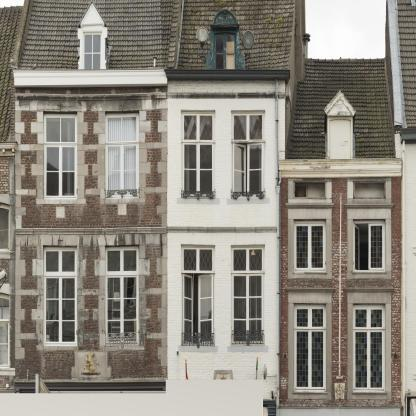Building Outline: (10, 0, 401, 416)
Cornice: (81, 3, 105, 28), (210, 8, 240, 27), (286, 287, 335, 294), (345, 287, 394, 293), (286, 203, 335, 209), (343, 204, 394, 209)
Deco: (80, 352, 101, 375), (334, 383, 345, 400)
Facade: (16, 80, 401, 414)
Floor: (16, 226, 279, 379), (16, 92, 279, 227), (279, 178, 402, 295), (279, 295, 402, 409), (16, 379, 279, 415), (279, 409, 402, 416)
Floor Slab: (16, 370, 279, 379), (16, 84, 279, 93), (16, 218, 279, 227), (279, 169, 402, 178), (279, 400, 402, 409), (279, 286, 402, 295)
Roof: (18, 0, 295, 69), (288, 57, 396, 159)
Sill: (177, 197, 221, 205), (36, 198, 86, 205), (227, 345, 269, 353), (226, 198, 270, 205), (178, 345, 218, 352), (100, 198, 145, 204), (99, 346, 145, 351), (36, 346, 79, 351), (293, 270, 328, 275), (352, 271, 387, 275), (293, 391, 328, 395), (352, 392, 387, 395)
Top Floor: (23, 1, 285, 92), (297, 58, 386, 178)
Window: (231, 244, 265, 346), (181, 244, 215, 346), (105, 245, 139, 346), (43, 245, 77, 346), (232, 110, 266, 199), (181, 110, 215, 199), (106, 111, 140, 199), (44, 111, 78, 199), (353, 304, 386, 392), (294, 304, 326, 392), (354, 219, 386, 271), (294, 219, 326, 271), (214, 33, 236, 69), (330, 121, 351, 158), (83, 32, 102, 69), (354, 182, 386, 199), (294, 181, 326, 198)
